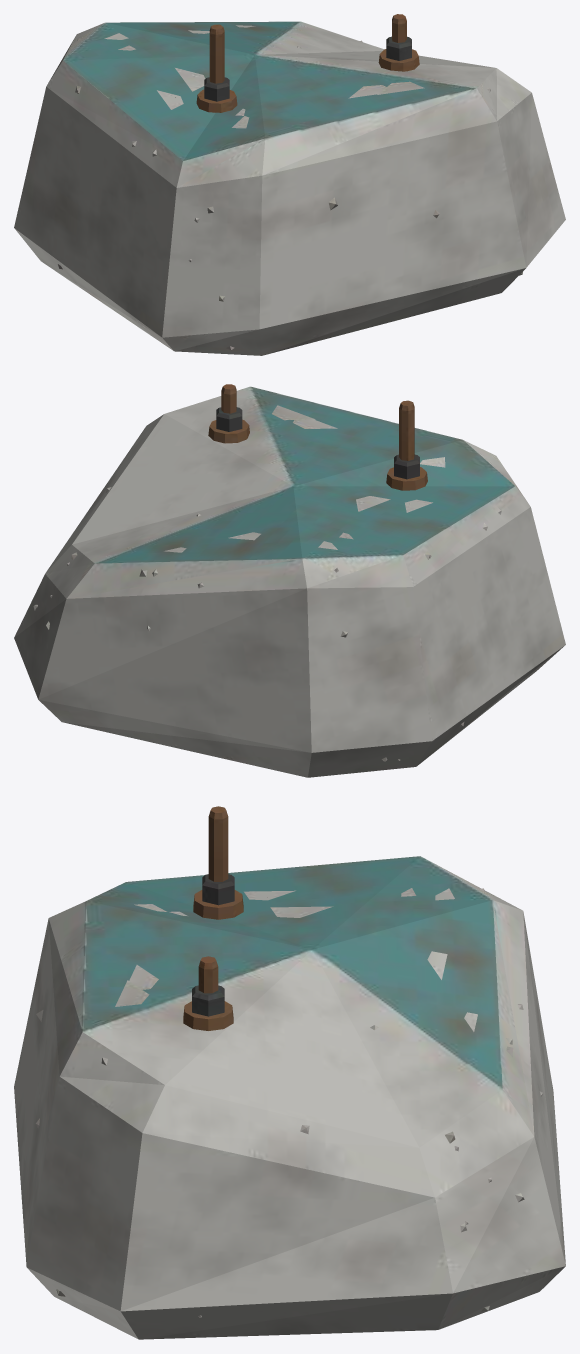
File: D29_concrete_chunks_v4.glb
The picture shows the model from 3 angles, top to bottom: view 1: azimuth 30°, elevation 25°; view 2: azimuth 150°, elevation 25°; view 3: azimuth 270°, elevation 25°; orthographic projection. The views are drawn at different scales.
Visible parts, largest first — view 1: Machine Footing; view 2: Machine Footing; view 3: Machine Footing.
Boxes of the visible parts, bbox=[...] form: Machine Footing: bbox=[14, 14, 565, 355]; Machine Footing: bbox=[14, 384, 565, 777]; Machine Footing: bbox=[14, 806, 565, 1339].
Bounding box in the file's own units: 0.6 × 0.3684 × 0.528.
Materials: 5 (5 with a texture image).
